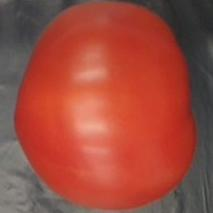unripe: (11, 0, 204, 213)
